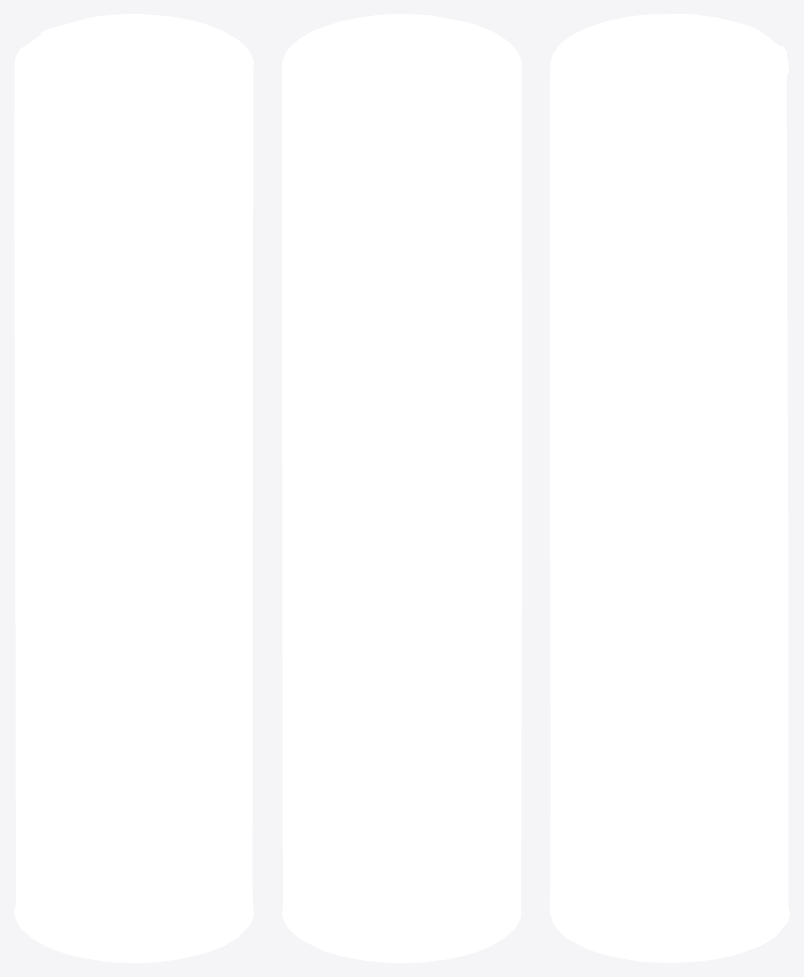
The model's file is reaktor-sterzhen.glb.
The picture shows the model from 3 angles, left to right: view 1: azimuth 30°, elevation 25°; view 2: azimuth 150°, elevation 25°; view 3: azimuth 270°, elevation 25°; orthographic projection.
Parts seen in each view (by area): view 1: reaktor-sterzhen; view 2: reaktor-sterzhen; view 3: reaktor-sterzhen.
Part boxes in pixels (bbox=[...]): reaktor-sterzhen: bbox=[14, 14, 253, 962]; reaktor-sterzhen: bbox=[282, 14, 521, 962]; reaktor-sterzhen: bbox=[550, 14, 789, 962].
Bounding box in the file's own units: 0.64 × 2.5 × 0.64.
Materials: 1 (1 with a texture image).
